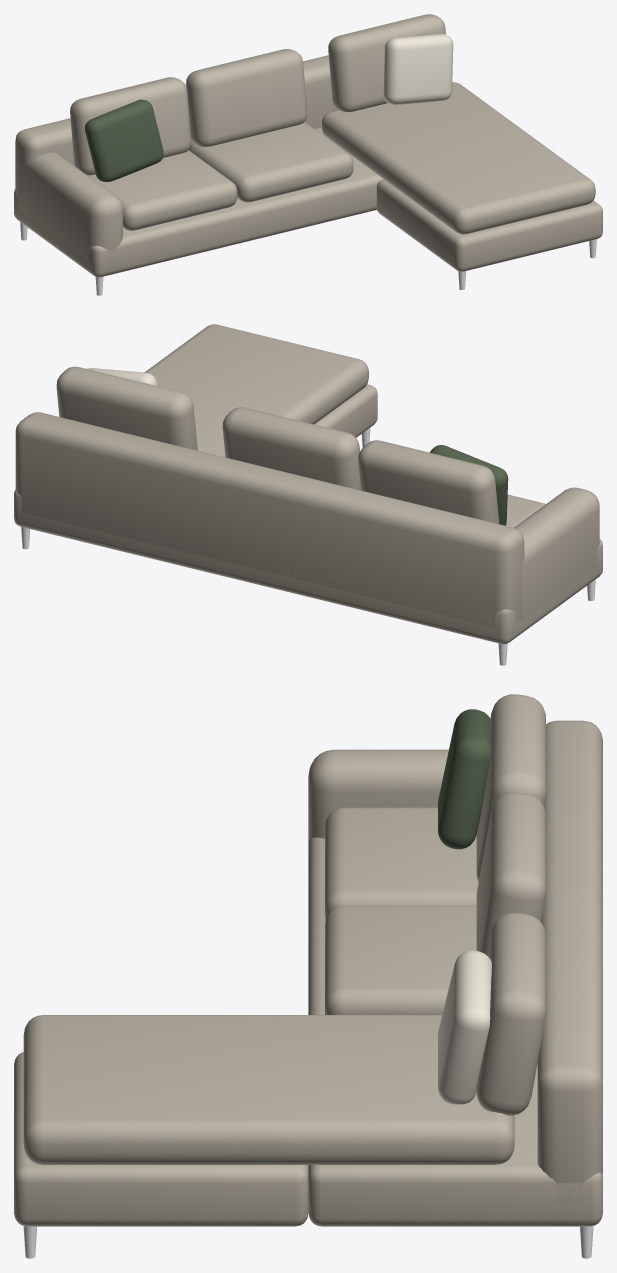
The model's file is sofa_canto.glb.
3 views of the same model, one above another, from view 1: azimuth 30°, elevation 25°; view 2: azimuth 150°, elevation 25°; view 3: azimuth 270°, elevation 25° (orthographic). The views are drawn at different scales.
Parts seen in each view (by area): view 1: p; view 2: p; view 3: p.
Part boxes in pixels (bbox=[...]): p: bbox=[14, 14, 602, 295]; p: bbox=[14, 324, 602, 665]; p: bbox=[14, 694, 602, 1258].
Bounding box in the file's own units: 2.6 × 0.8398 × 1.8.
